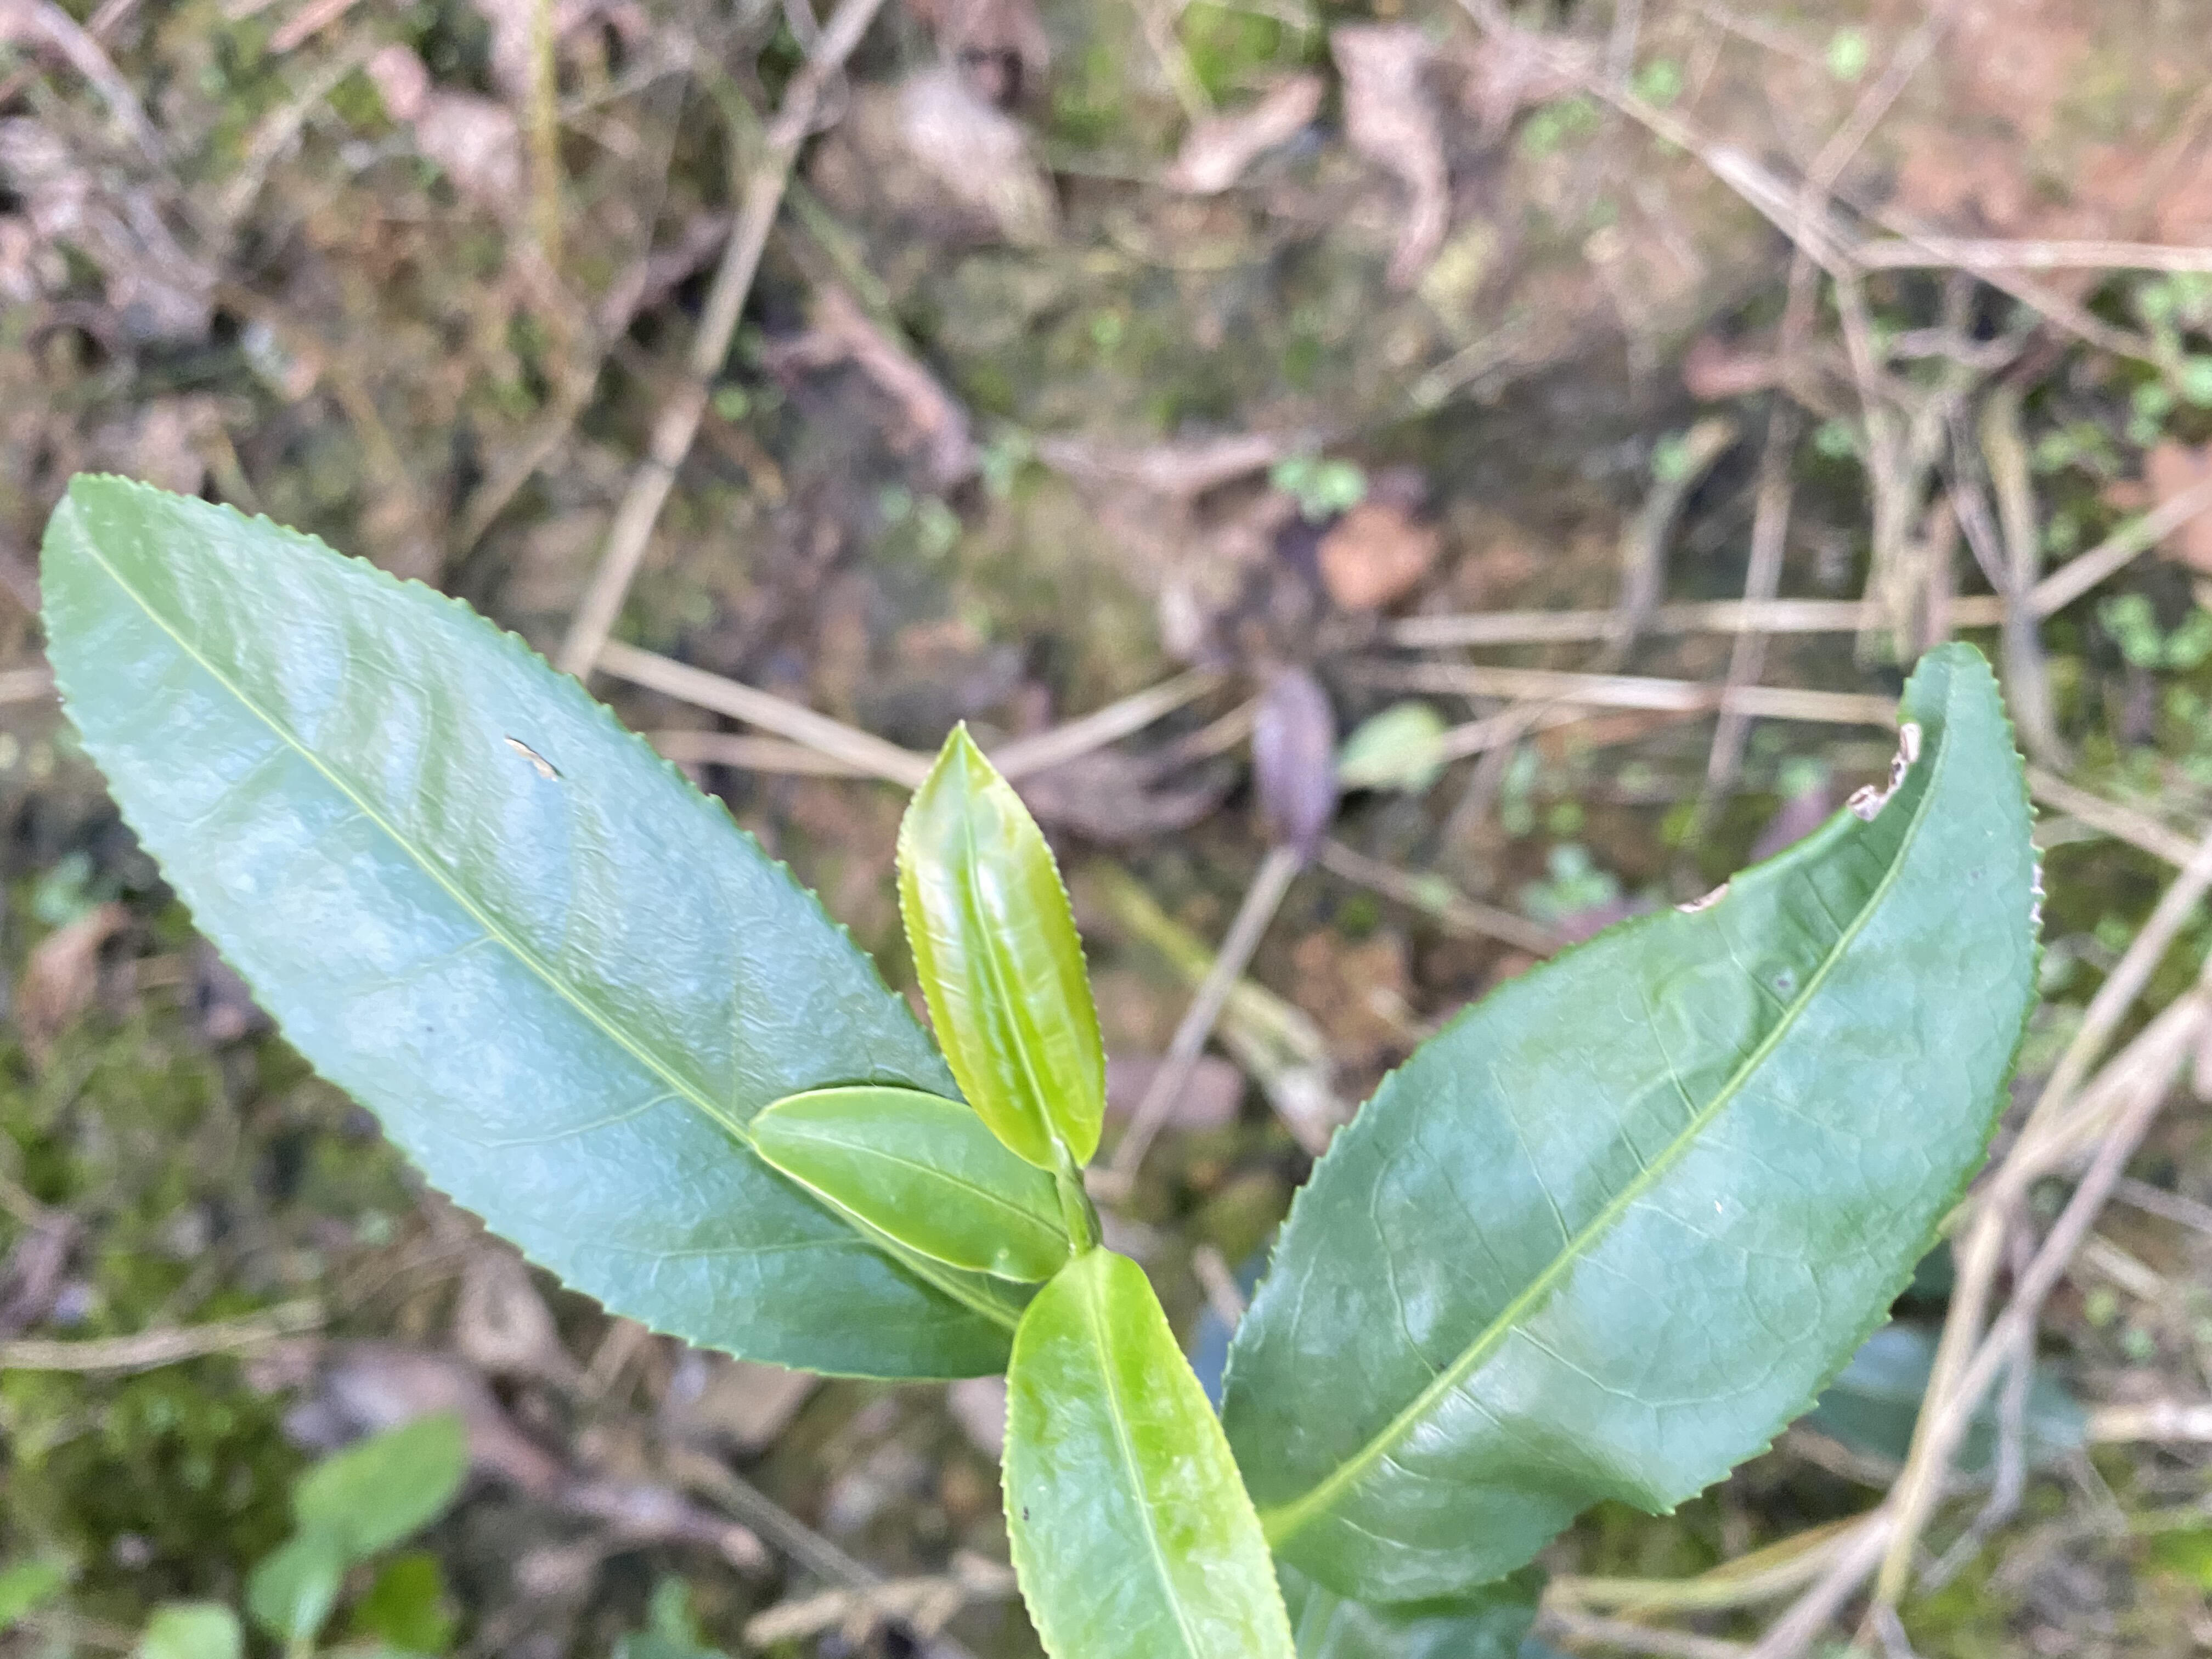healthy: (37, 471, 1012, 1382), (1001, 1248, 1296, 1656), (894, 720, 1109, 1173), (747, 1086, 1068, 1284)
tanju_low: (1217, 643, 2047, 1605)
